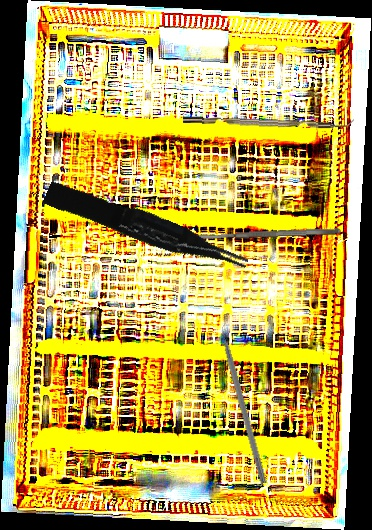Chopper: (216, 315, 276, 485), (182, 107, 355, 132)
Spatula Surgical: (185, 227, 342, 241)
Tissue Forceps: (42, 172, 251, 286)
